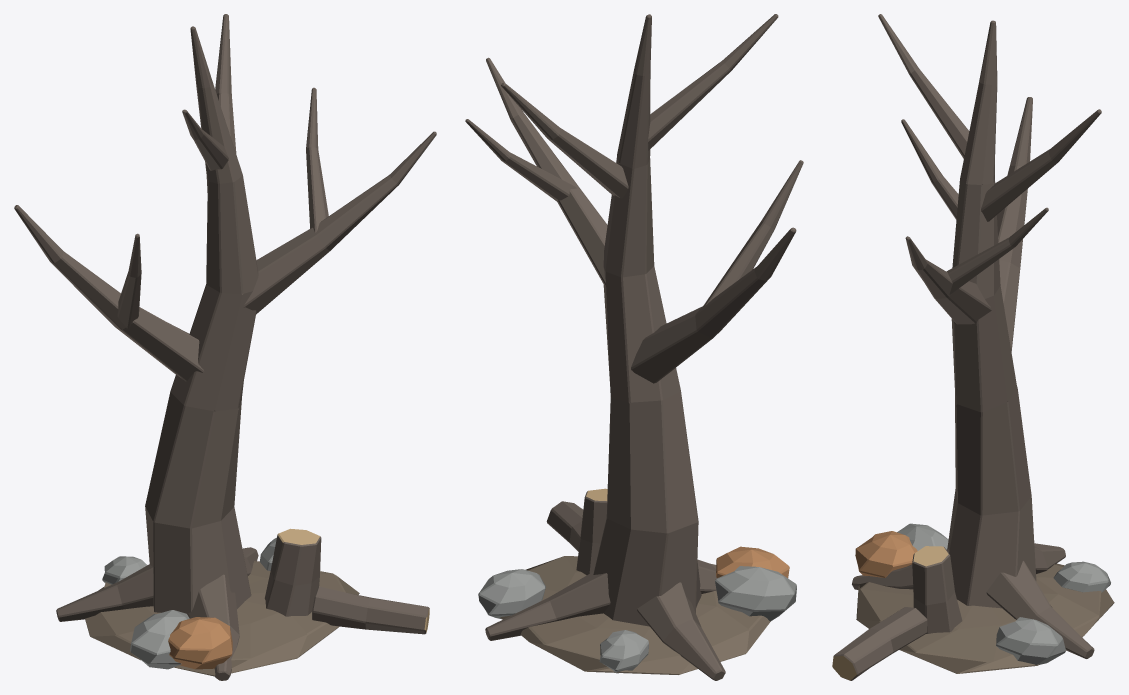
Rendered from Apoc_Tree_02_Scorched_Dead_Tree.fbx.
The picture shows the model from 3 angles, left to right: view 1: azimuth 30°, elevation 25°; view 2: azimuth 150°, elevation 25°; view 3: azimuth 270°, elevation 25°; orthographic projection. The views are drawn at different scales.
Parts seen in each view (by area): view 1: Apoc_Tree_02_Scorched_Dead_Tree; view 2: Apoc_Tree_02_Scorched_Dead_Tree; view 3: Apoc_Tree_02_Scorched_Dead_Tree.
Boxes of the visible parts, box(x1,y1,x2,y2) form: Apoc_Tree_02_Scorched_Dead_Tree: box(14, 14, 436, 680); Apoc_Tree_02_Scorched_Dead_Tree: box(465, 14, 803, 680); Apoc_Tree_02_Scorched_Dead_Tree: box(832, 14, 1114, 680).
Size of the model in its own units: 2.35 by 3.74 by 1.61.
